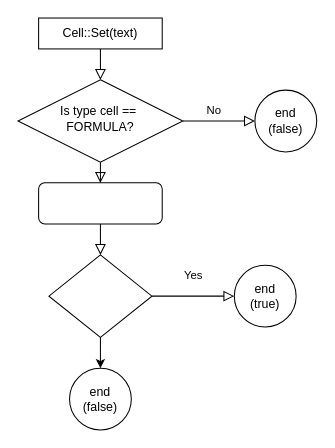
Image size: 335x448. Some labels were removed from this diagram. Here are the shapes that lost their labels. From the top down, the centre of each, then its label:
At point 100,203: "recurcive search in reference cells".
At point 100,295: "founded?".
